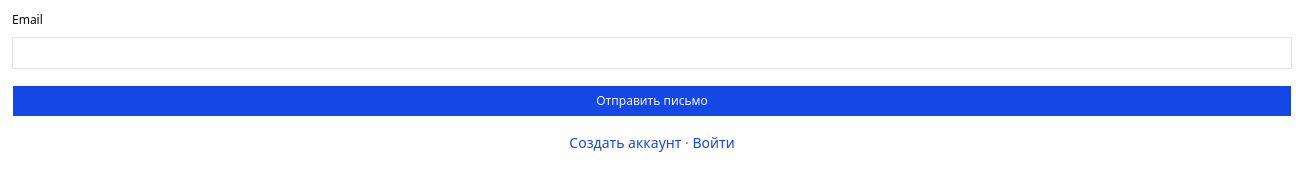
Test case: ResendEmailVerificationForm › validates email without HTTP
In the field labelled "Email": [652, 52] box [12, 36, 1292, 68], type "invalid"
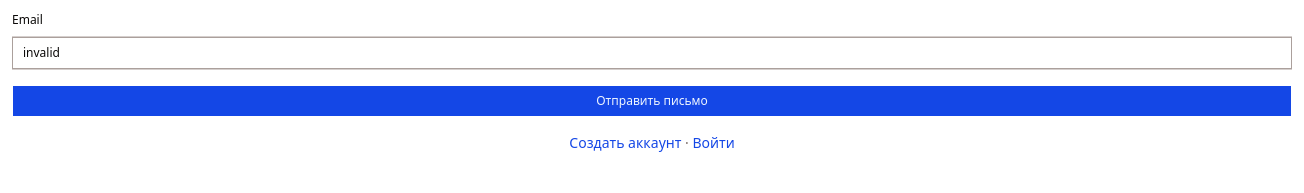
Click the button named "Отправить письмо": [652, 100] box [12, 84, 1292, 116]
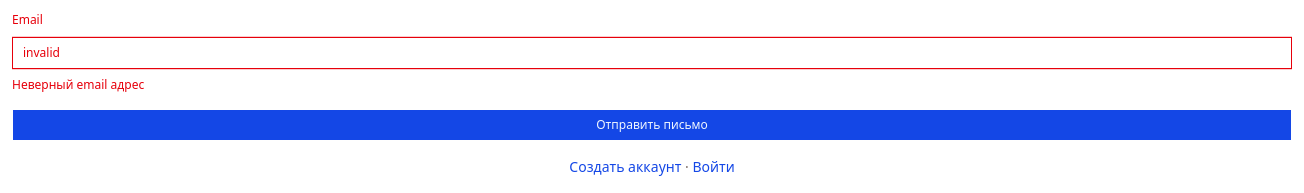
Now the text "Неверный email адрес" is shown, box [12, 76, 144, 92]
